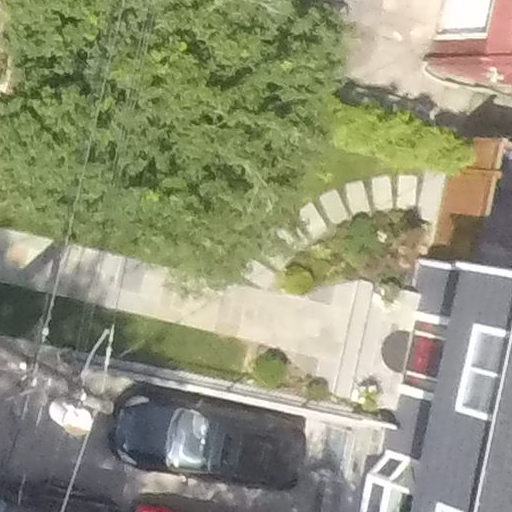car: (115, 383, 324, 490)
front yard: (1, 145, 485, 415)
